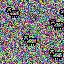sheep: (49, 19, 64, 30), (6, 7, 20, 18), (23, 35, 37, 46), (49, 49, 63, 60), (59, 8, 64, 17)
